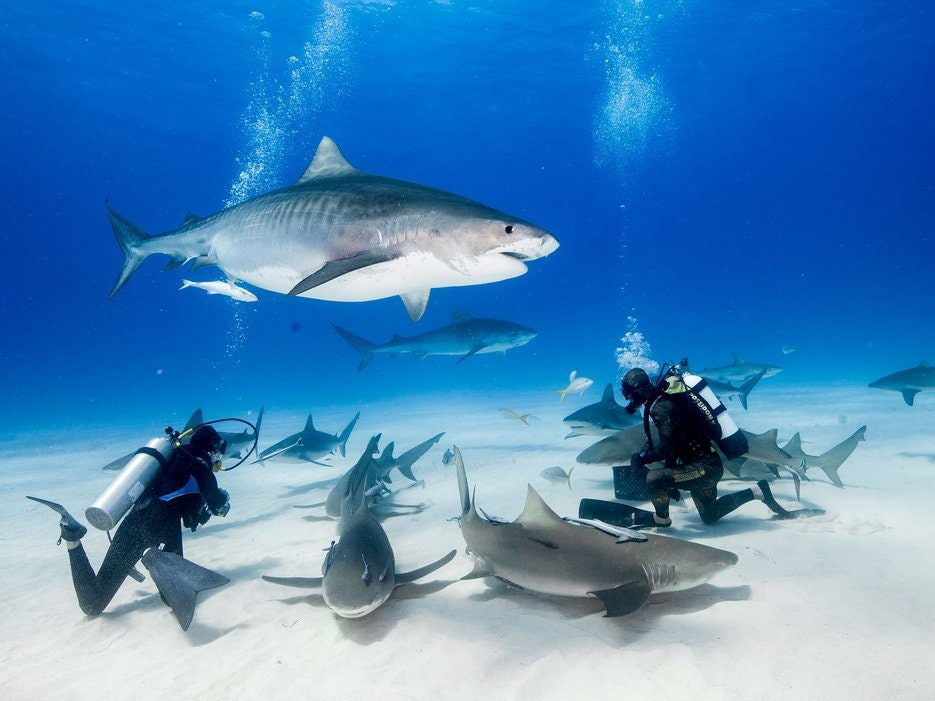shark: (95, 142, 553, 323), (448, 475, 736, 638), (275, 490, 452, 632), (282, 415, 460, 527), (623, 420, 886, 487), (322, 312, 542, 386), (249, 407, 365, 490), (553, 379, 683, 446), (836, 358, 935, 419)
